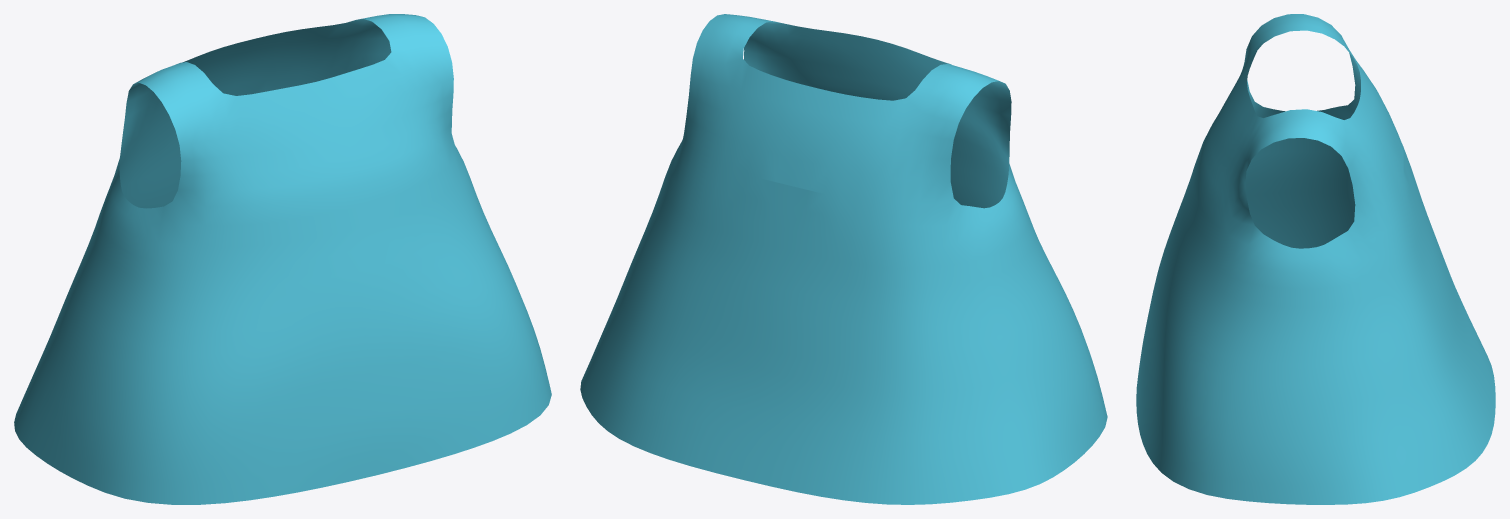
Rendered from Top_BasicNosleeve.fbx.
The picture shows the model from 3 angles, left to right: view 1: azimuth 30°, elevation 25°; view 2: azimuth 150°, elevation 25°; view 3: azimuth 270°, elevation 25°; orthographic projection. The views are drawn at different scales.
Visible parts, largest first — view 1: Without_Sleeves; view 2: Without_Sleeves; view 3: Without_Sleeves.
Boxes of the visible parts, left/top/right/bottom form: Without_Sleeves: left=14, top=14, right=551, bottom=504; Without_Sleeves: left=580, top=14, right=1107, bottom=504; Without_Sleeves: left=1136, top=14, right=1495, bottom=504.
Size of the model in its own units: 98.45 by 72.45 by 71.4.
